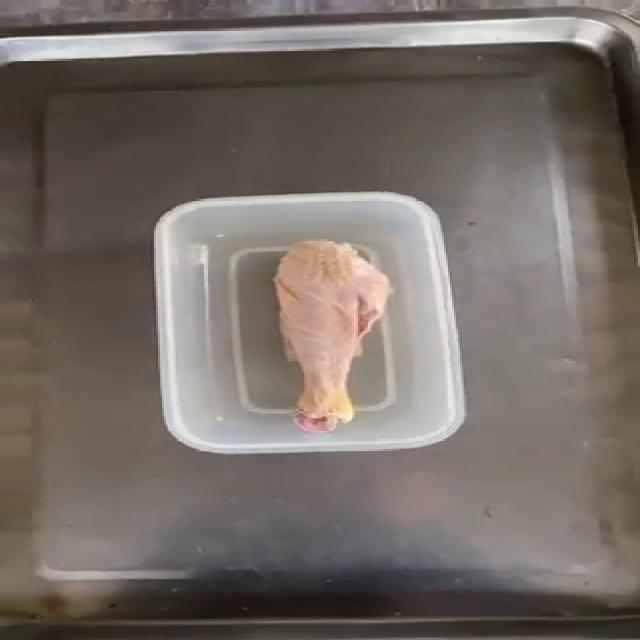chicken: (272, 238, 393, 433)
